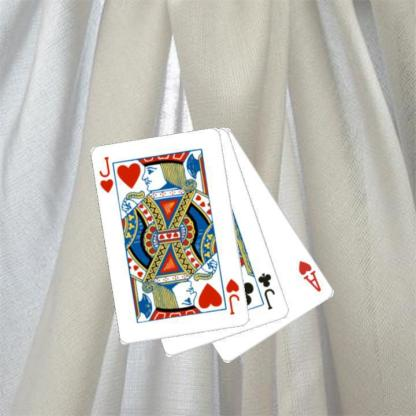AH: (296, 258, 323, 294)
JC: (255, 270, 277, 312)
JH: (223, 276, 242, 316), (97, 154, 115, 194)
